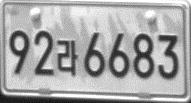2: (33, 28, 56, 77)
3: (157, 34, 179, 80)
6: (107, 32, 131, 78), (83, 31, 105, 77)
8: (132, 32, 154, 78)
9: (7, 29, 29, 74)
라: (55, 39, 79, 77)
